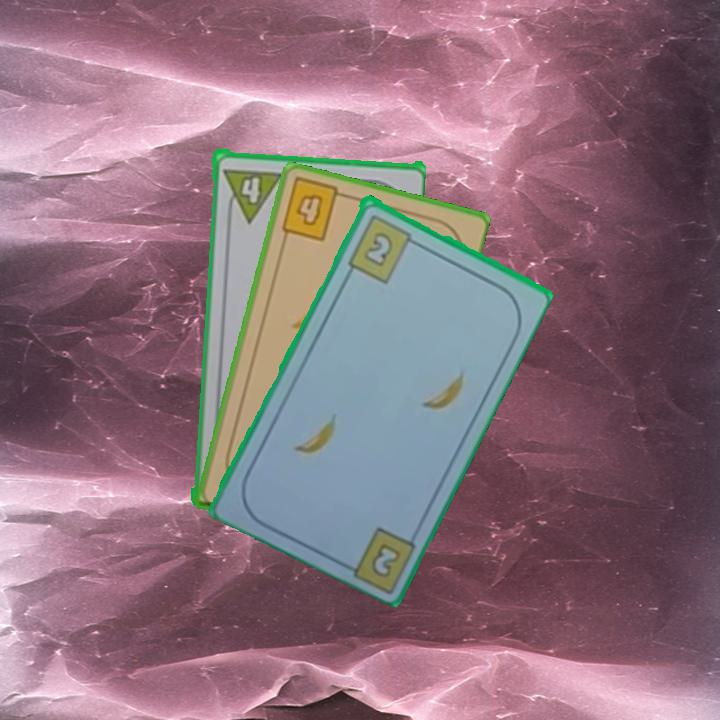2b: (344, 210, 421, 285), (367, 539, 404, 580)
4b: (277, 175, 350, 245)
4p: (219, 164, 284, 224)
